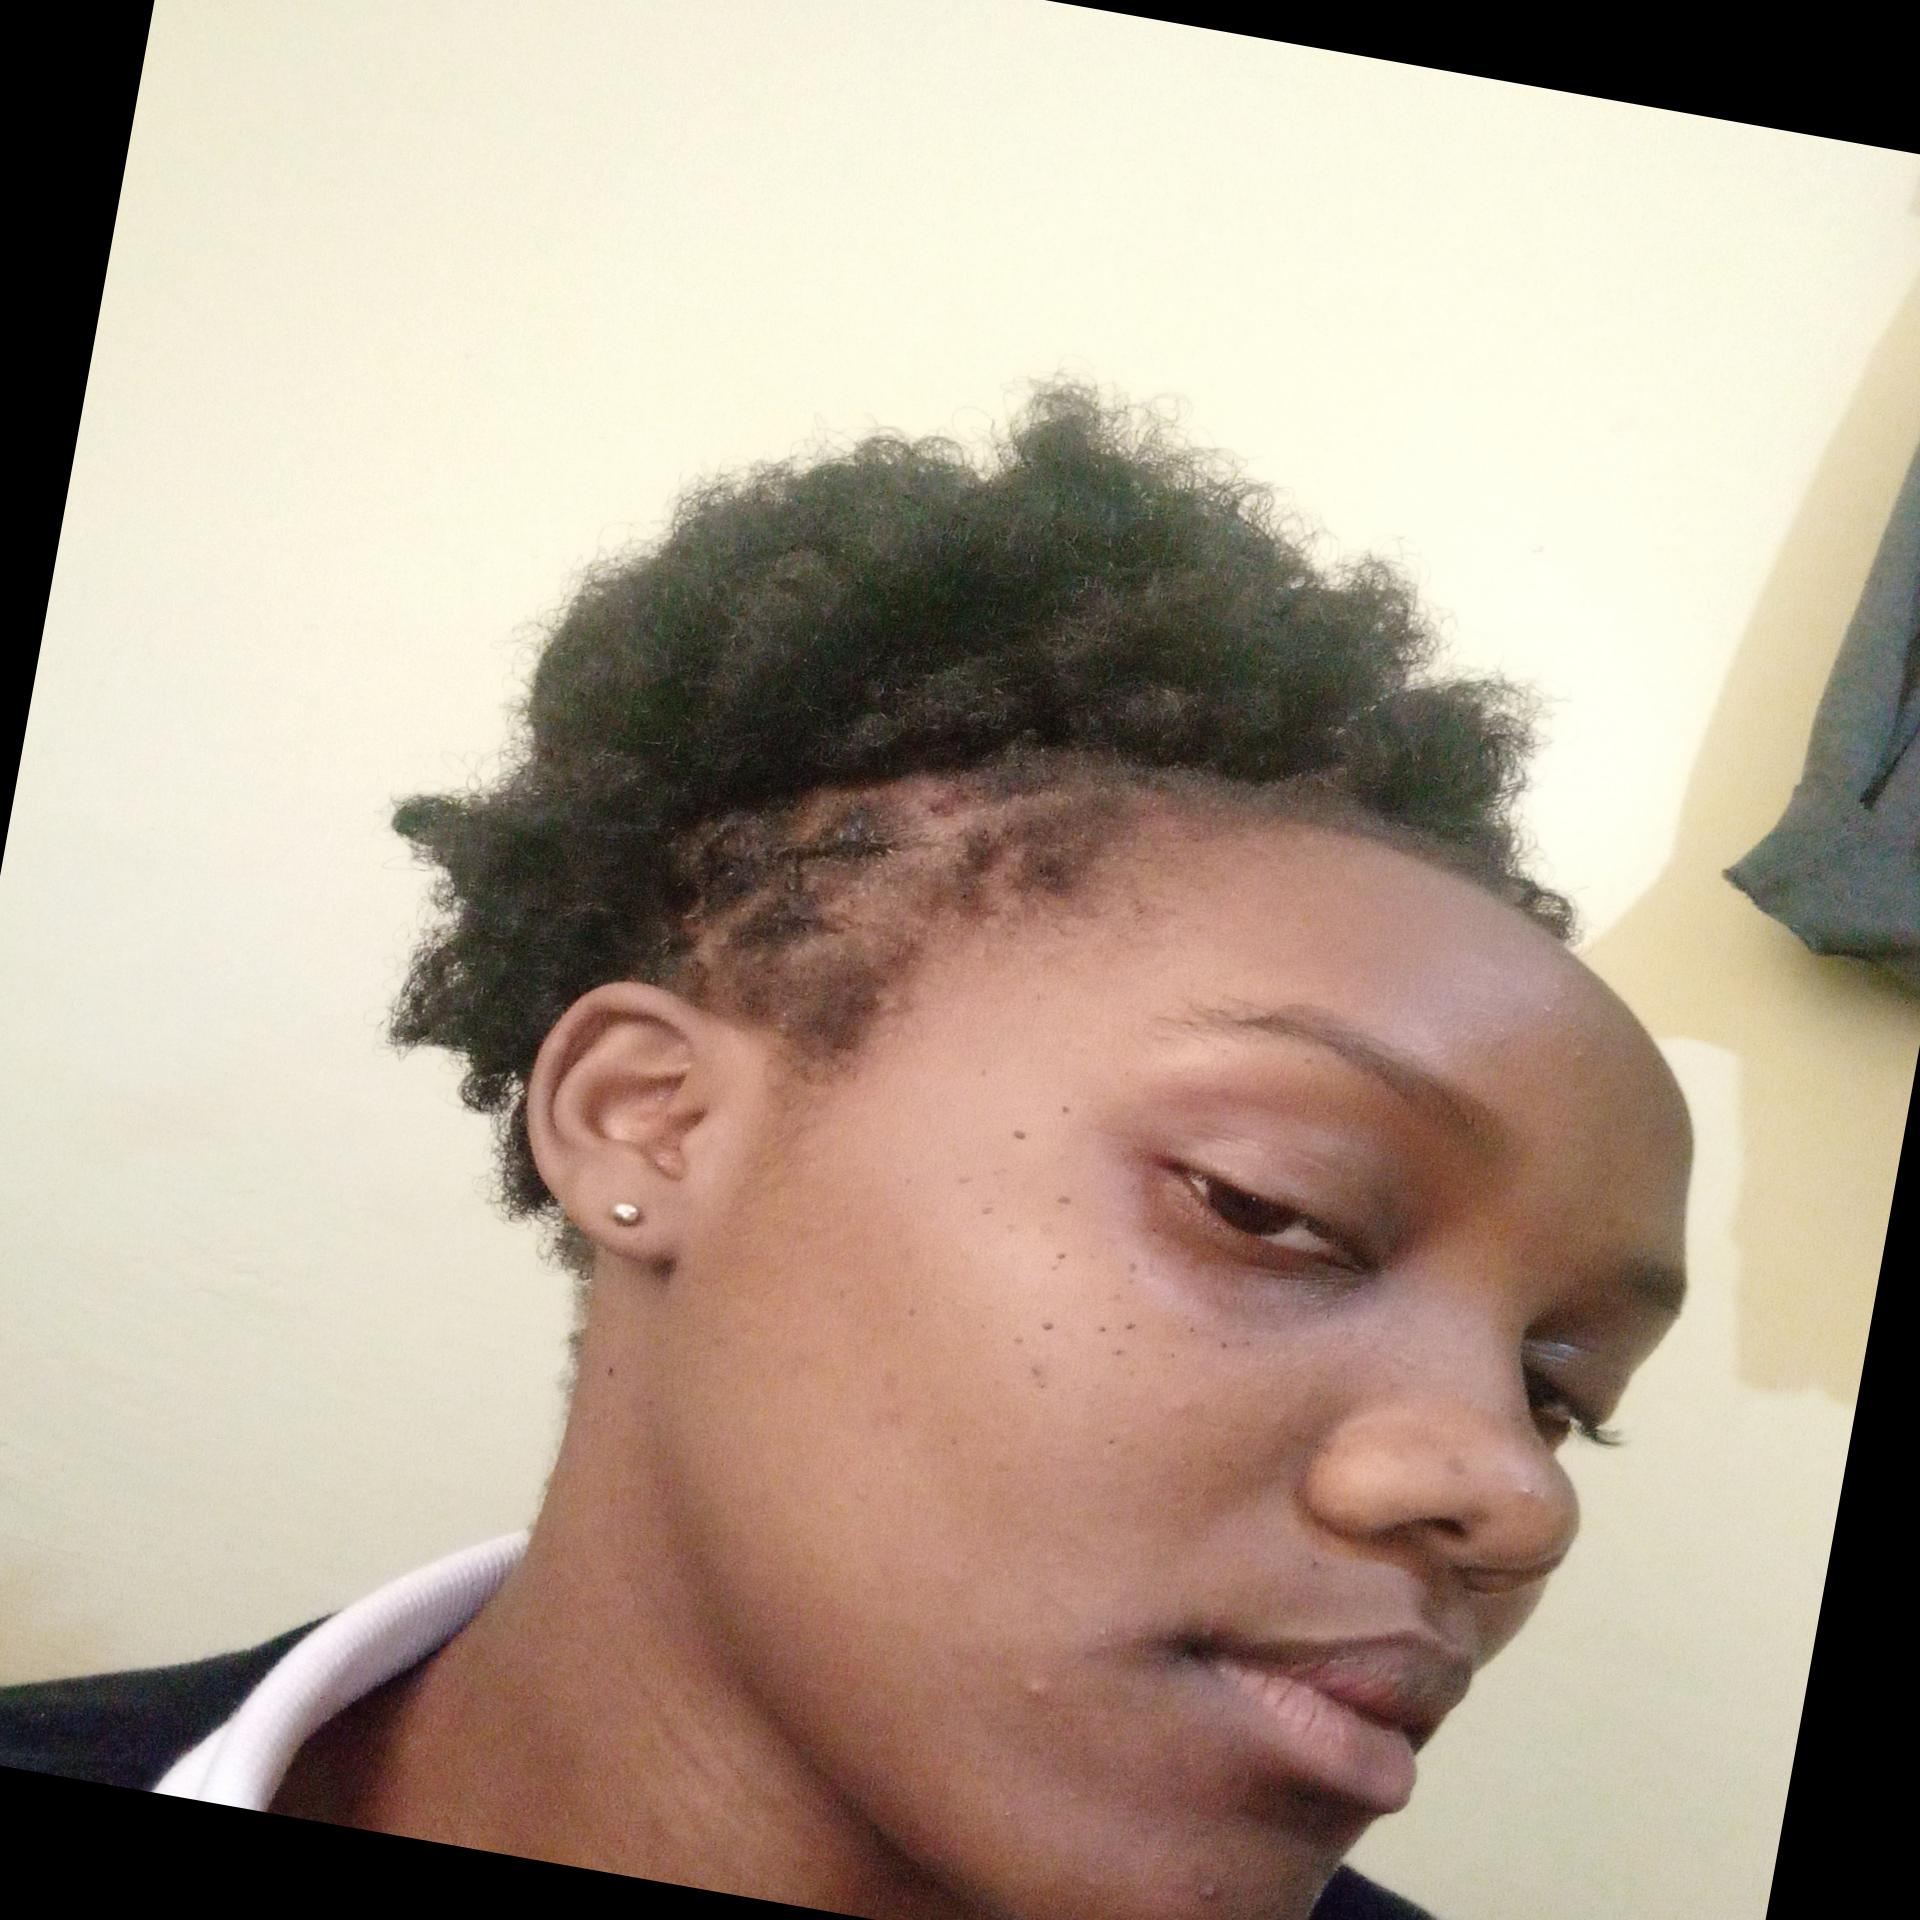Acne: (1009, 1658, 1067, 1718), (1180, 1874, 1233, 1915), (1435, 1447, 1484, 1486), (1503, 1475, 1545, 1505), (1560, 1039, 1598, 1067), (1535, 999, 1561, 1022)
Dark Circles: (1097, 1175, 1394, 1354)
